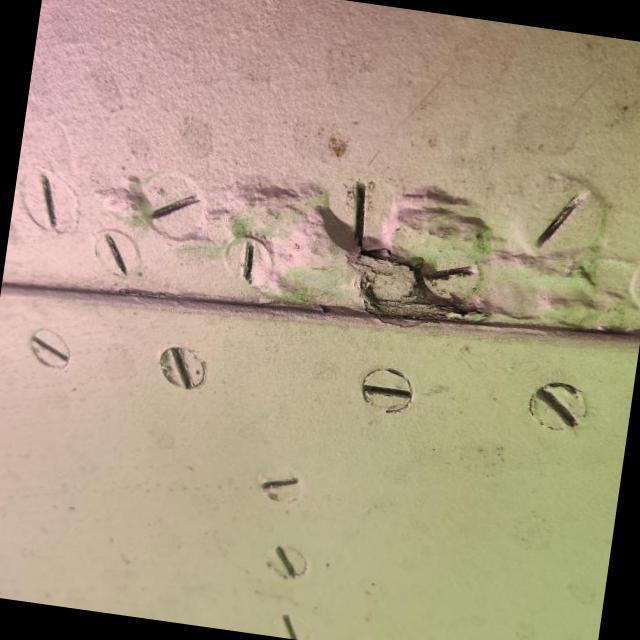Paint-off: (317, 179, 495, 321)
